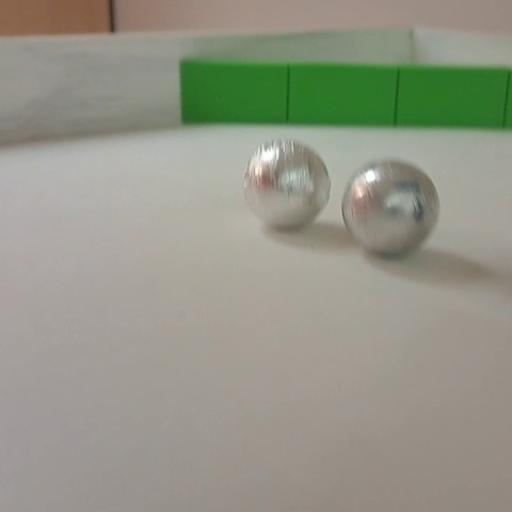alive: (340, 157, 442, 258), (239, 136, 332, 231)
